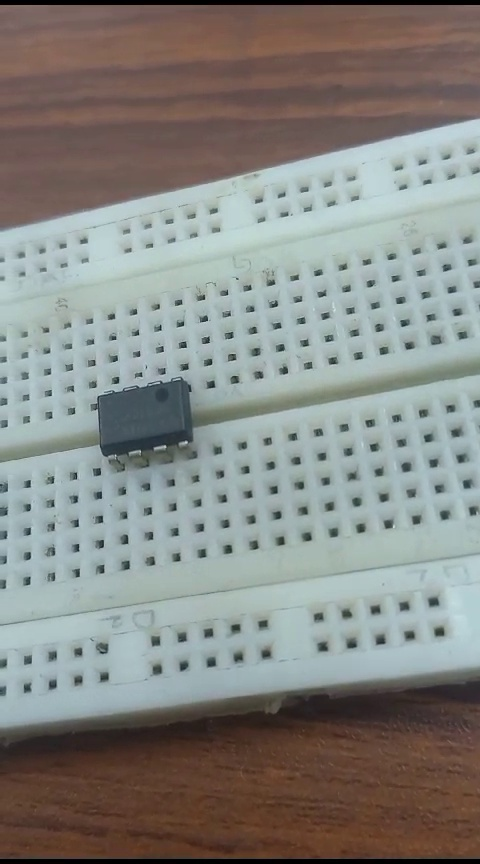IC: (88, 375, 206, 461)
